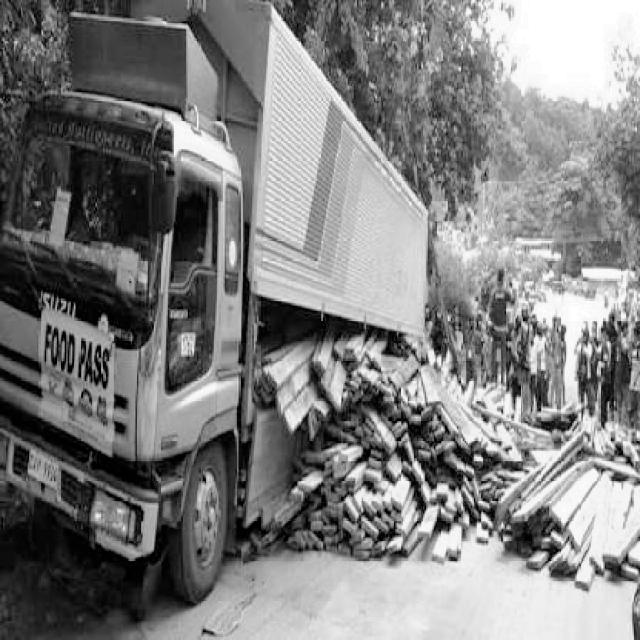HCV: (17, 38, 307, 574)
